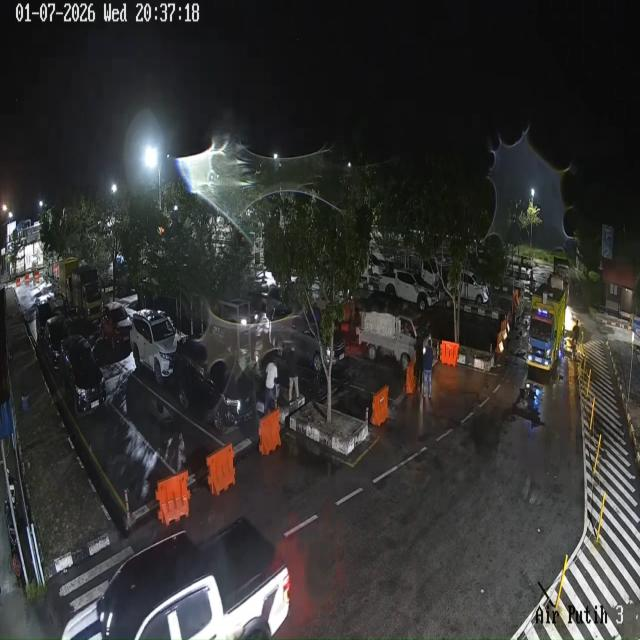Golongan IVA: (174, 338, 256, 434), (268, 310, 346, 374), (60, 335, 106, 417), (130, 308, 179, 384), (41, 315, 70, 370), (101, 301, 132, 349), (35, 300, 54, 341)
Golongan IVB: (62, 518, 290, 640), (379, 270, 439, 311)
Golongan VB: (526, 274, 568, 371), (356, 312, 417, 372), (68, 266, 102, 321), (58, 257, 79, 306)
